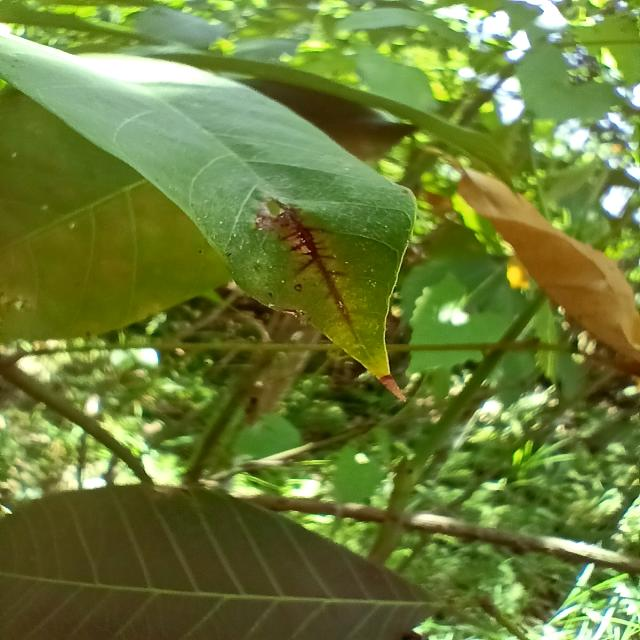Colletotrichum: (292, 284, 302, 292)
Corynespora: (262, 197, 354, 326)
Leaf-Blight: (378, 373, 406, 402)
